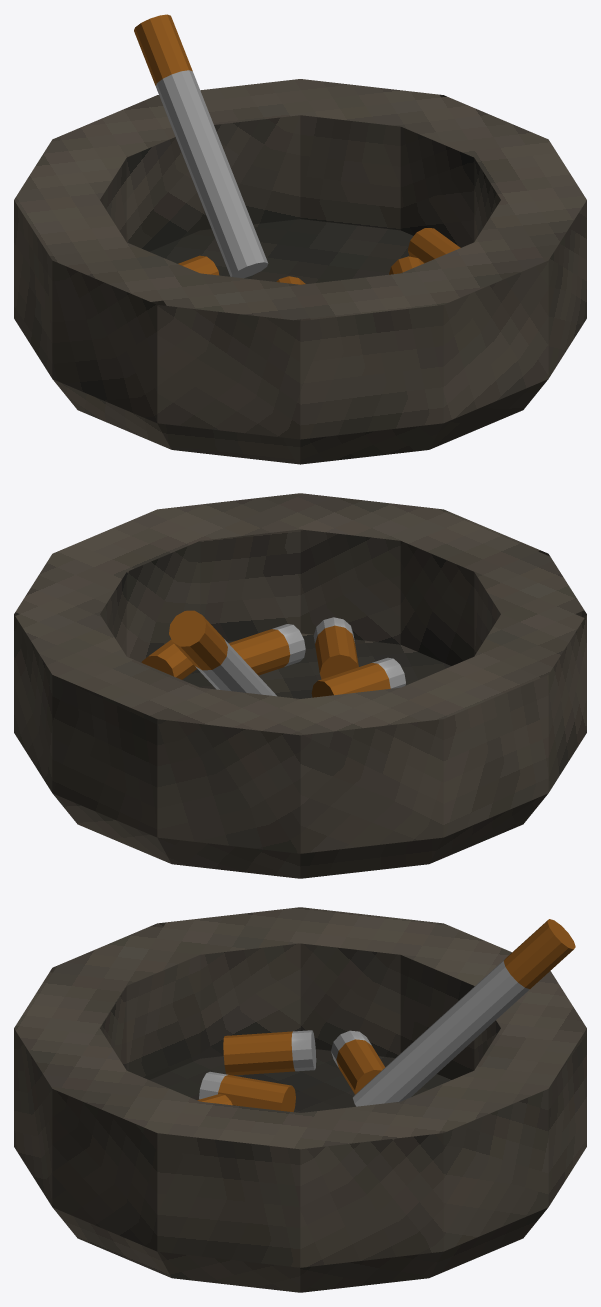
File: popielniczka.fbx
3 renders of one model, top to bottom at view 1: azimuth 30°, elevation 25°; view 2: azimuth 150°, elevation 25°; view 3: azimuth 270°, elevation 25°, orthographic.
Parts seen in each view (by area): view 1: Cylinder, main_szlug, spalony_szlugens; view 2: Cylinder, main_szlug, main_szlug.002, main_szlug.005, main_szlug.004, spalony_szlugens; view 3: Cylinder, main_szlug, main_szlug.007, main_szlug.005, main_szlug.006.
Boxes of the visible parts, x1,y1,x2,y2 form: Cylinder: (14,79,586,464); main_szlug: (134,14,268,278); spalony_szlugens: (408,228,460,263); Cylinder: (14,493,586,878); main_szlug: (169,610,276,696); main_szlug.002: (229,624,305,675); main_szlug.005: (311,657,405,697); main_szlug.004: (313,617,358,679); spalony_szlugens: (141,639,196,679); Cylinder: (14,907,586,1292); main_szlug: (353,919,575,1106); main_szlug.007: (223,1030,316,1075); main_szlug.005: (199,1071,295,1112); main_szlug.006: (331,1030,385,1094).
Bounding box in the file's own units: 2.8 × 1.37 × 2.8.
Materials: 3 (3 with a texture image).
